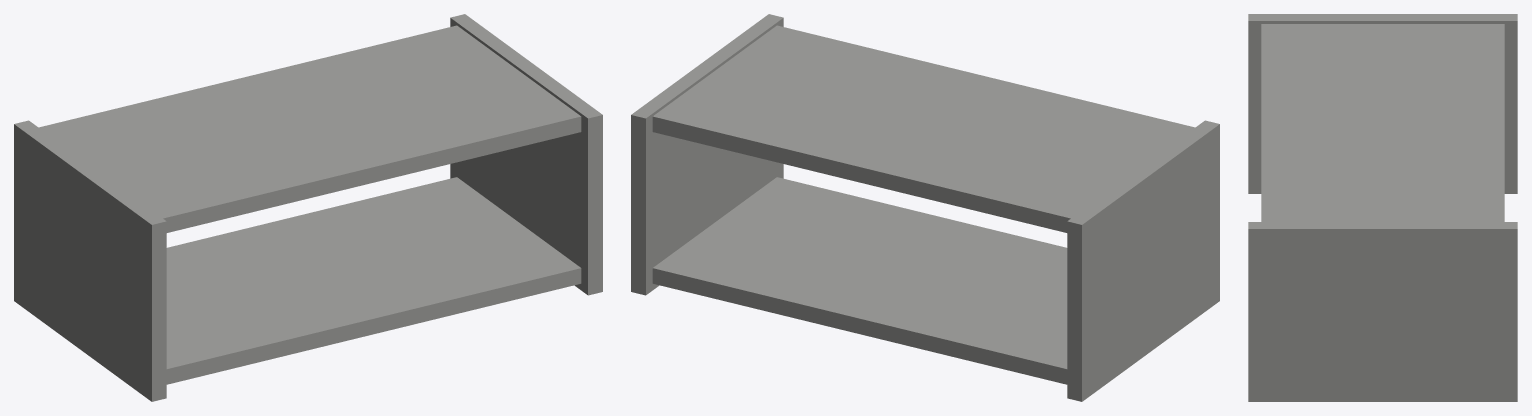
The model's file is Shelf_Small3.glb.
The picture shows the model from 3 angles, left to right: view 1: azimuth 30°, elevation 25°; view 2: azimuth 150°, elevation 25°; view 3: azimuth 270°, elevation 25°; orthographic projection. The views are drawn at different scales.
Visible parts, largest first — view 1: Shelf_Small3; view 2: Shelf_Small3; view 3: Shelf_Small3.
Boxes of the visible parts, x1,y1,x2,y2 form: Shelf_Small3: (14,14,602,401); Shelf_Small3: (631,14,1219,401); Shelf_Small3: (1248,14,1517,401).
Size of the model in its own units: 0.5084 by 0.1906 by 0.2691.
Materials: 1 (1 with a texture image).
